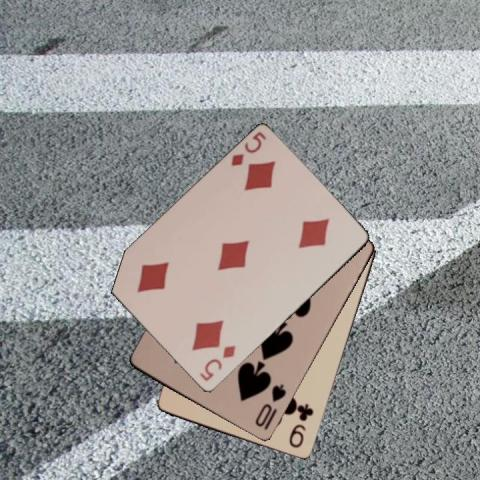10s: (252, 381, 288, 429)
5d: (196, 342, 237, 383), (228, 128, 268, 168)
9c: (287, 401, 315, 450)
